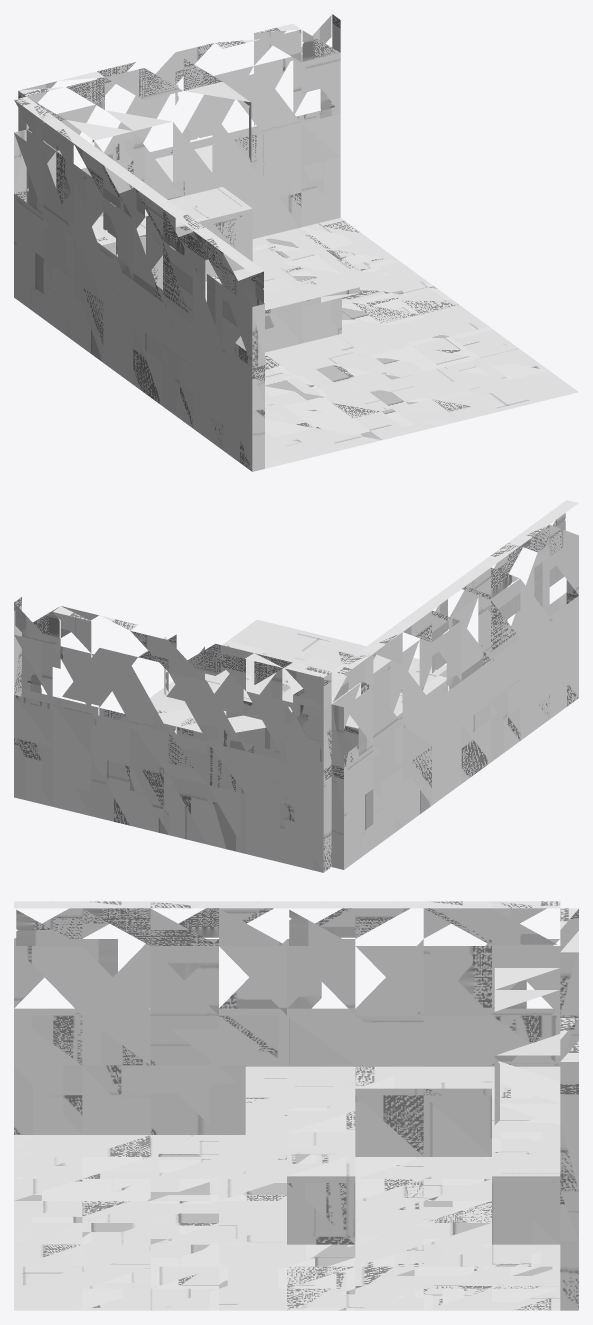
Rendered from KitchenTest.fbx.
3 views of the same model, one above another, from view 1: azimuth 30°, elevation 25°; view 2: azimuth 150°, elevation 25°; view 3: azimuth 270°, elevation 25° (orthographic). The views are drawn at different scales.
Visible parts, largest first — view 1: Plane; view 2: Plane; view 3: Plane.
Part boxes in pixels (<box>): Plane: <box>14,14,578,471</box>; Plane: <box>14,500,578,872</box>; Plane: <box>14,901,578,1310</box>.
Size of the model in its own units: 1531 by 886 by 2002.
